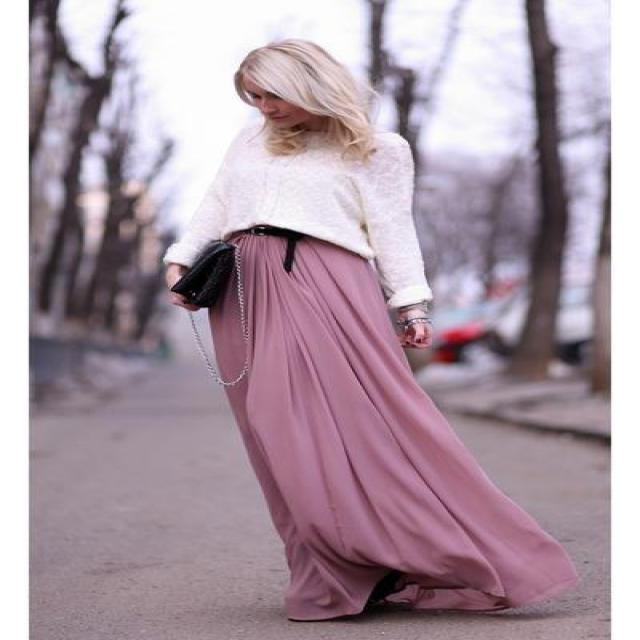bag: (173, 246, 245, 312)
shirt: (165, 117, 430, 305)
skirt: (208, 235, 574, 623)
